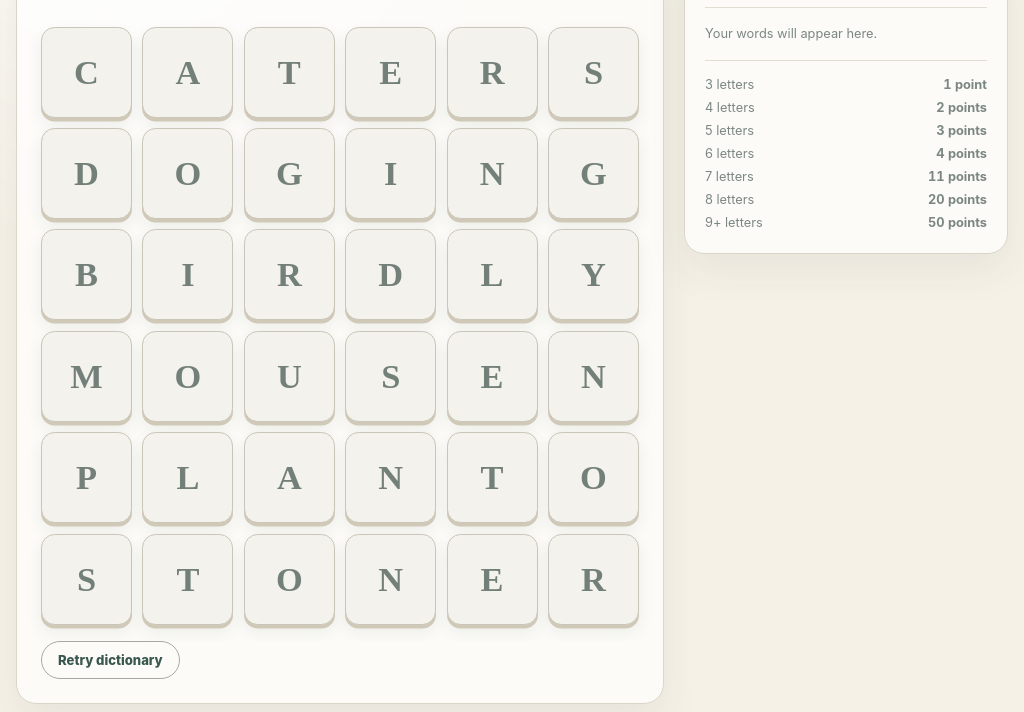
Scenario: App › retries a failed dictionary request
The image size is (1024, 712).
(page scrolled)
Click the button "Retry dictionary" at (110, 660), box [41,641,180,679]
(page scrolled)
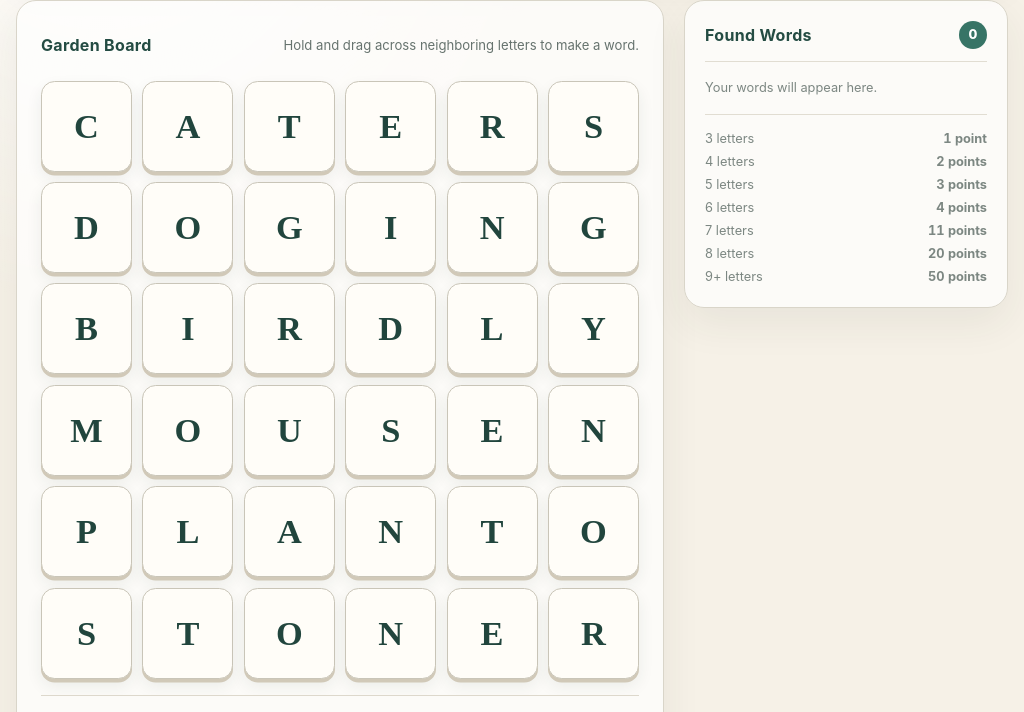
Expected: the text "Hold and drag across neighboring letters to make a word." is shown, [284,36,639,52]
